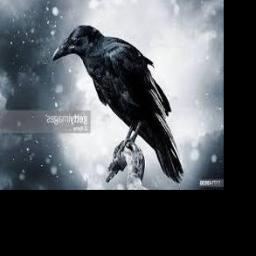Crow: (53, 24, 184, 183)
